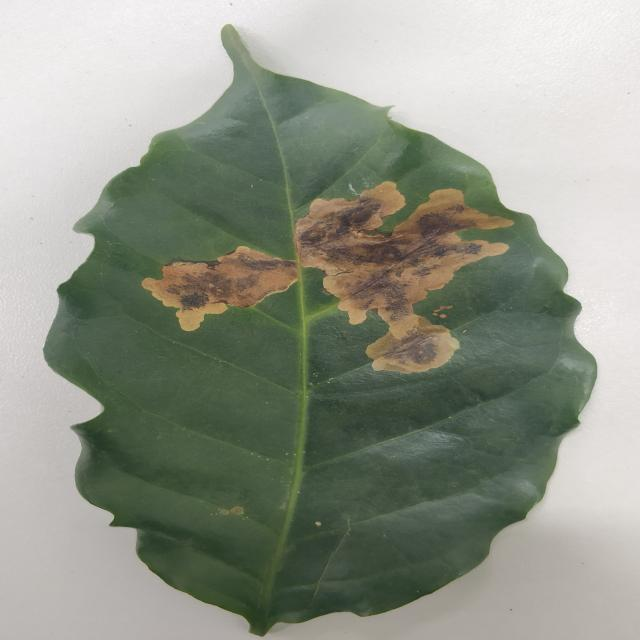Plaga-Minador: (42, 24, 599, 638)
